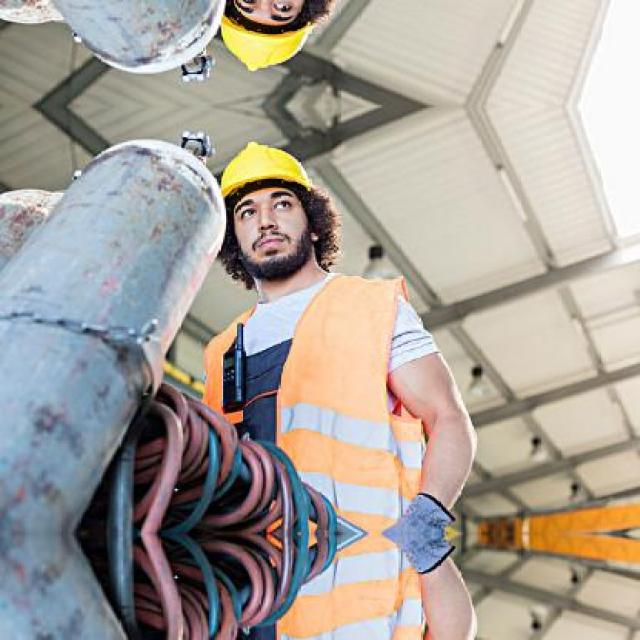helmet: (205, 122, 322, 284), (205, 0, 323, 91)
